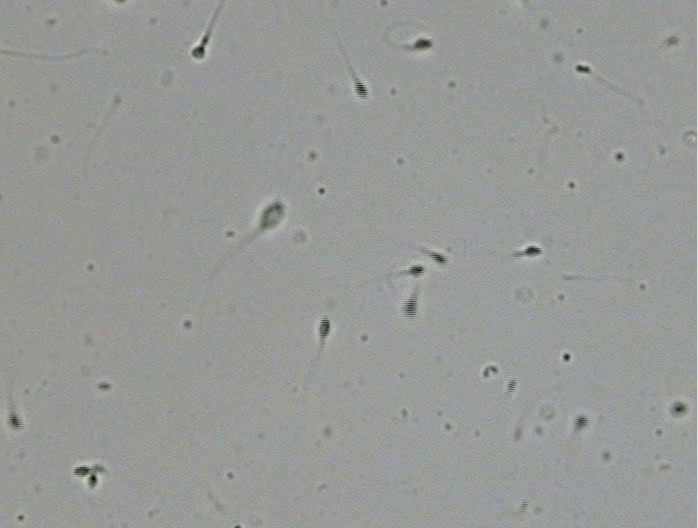S: (260, 202, 285, 229), (402, 296, 418, 319), (353, 80, 369, 100), (318, 316, 331, 339), (6, 413, 22, 431), (429, 252, 447, 265), (525, 245, 543, 257), (414, 38, 432, 50), (408, 265, 425, 277), (73, 466, 91, 477), (672, 403, 687, 415), (192, 46, 205, 59), (574, 416, 587, 429), (87, 475, 97, 490), (576, 64, 590, 74)
